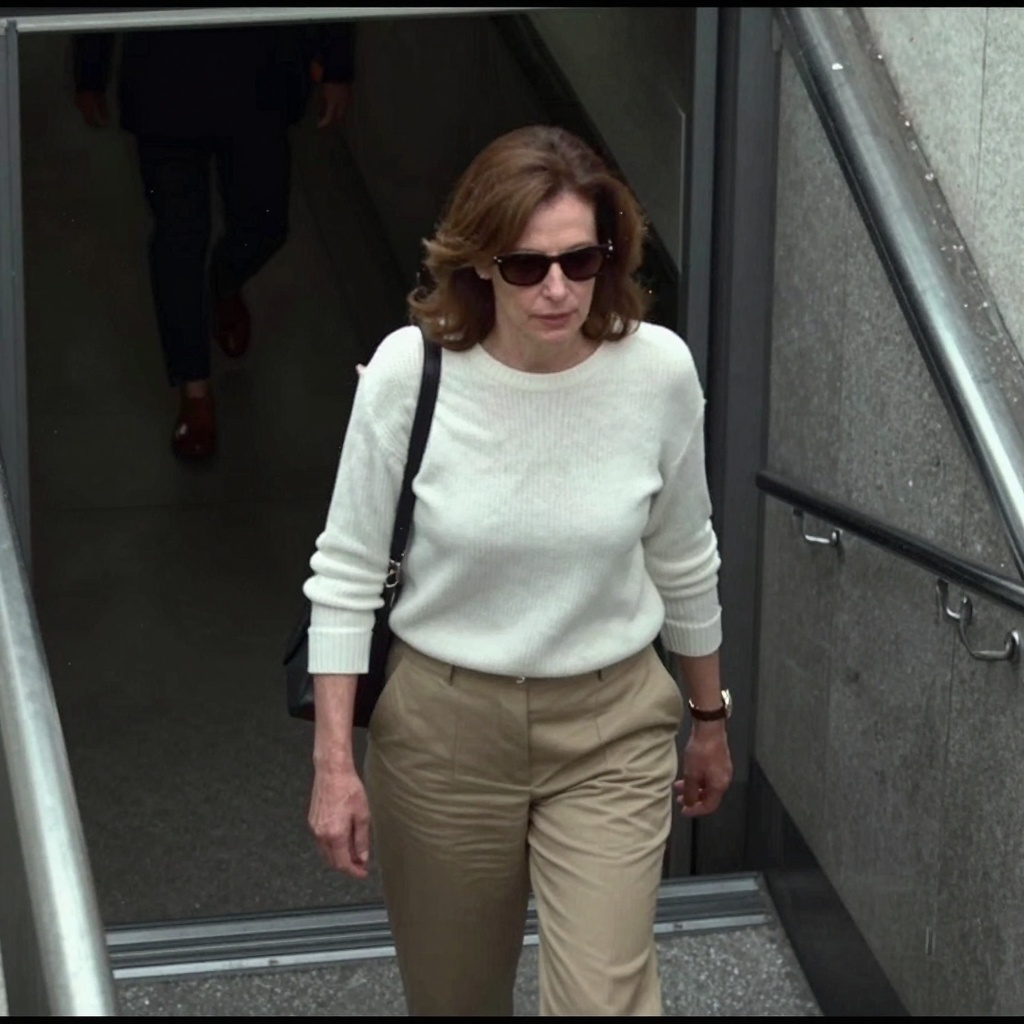Normal activity: (296, 121, 728, 1004), (72, 1, 343, 462)
